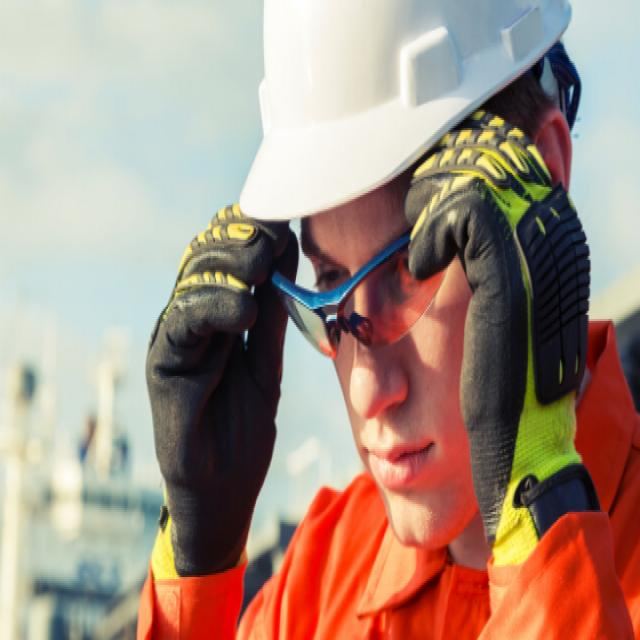Gloves: (398, 116, 631, 581), (124, 183, 306, 591)
Helmet: (229, 3, 610, 239)
Protective Glasses: (258, 241, 485, 367)
